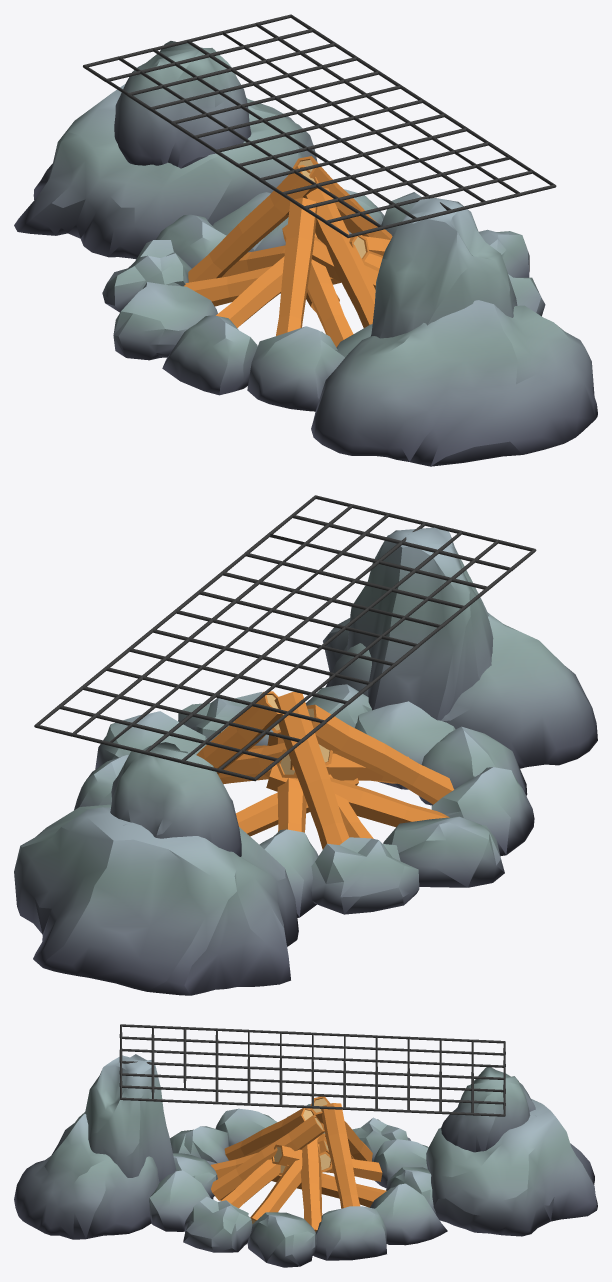
Rendered from Camp fire 2 MENGGORENG.fbx.
The picture shows the model from 3 angles, top to bottom: view 1: azimuth 30°, elevation 25°; view 2: azimuth 150°, elevation 25°; view 3: azimuth 270°, elevation 25°; orthographic projection. The views are drawn at different scales.
Visible parts, largest first — view 1: LargeRock4, LargeRock1, Plane, LargeRock1.001, LargeRock4.001, SmallRock5.001, SmallRock3.001, SmallRock4.001, Cylinder.003, Cylinder.008, Cylinder, SmallRock2.001 (+11 smaller); view 2: LargeRock1, Plane, LargeRock1.001, LargeRock4, LargeRock4.001, SmallRock2.001, SmallRock3.001, SmallRock4.001, Cylinder.008, Cylinder.003, SmallRock5.001, SmallRock3.002 (+12 smaller); view 3: LargeRock1, LargeRock4, Plane, LargeRock1.001, LargeRock4.001, SmallRock4, SmallRock3, SmallRock5, SmallRock2, SmallRock5.002, Cylinder.002, Cylinder (+14 smaller).
Boxes of the visible parts, x1,y1,x2,y2 form: LargeRock4: [311, 300, 597, 466]; LargeRock1: [14, 84, 317, 259]; Plane: [83, 14, 556, 237]; LargeRock1.001: [370, 198, 517, 338]; LargeRock4.001: [114, 41, 251, 168]; SmallRock5.001: [247, 326, 344, 411]; SmallRock3.001: [113, 282, 217, 360]; SmallRock4.001: [162, 315, 257, 395]; Cylinder.003: [188, 165, 318, 282]; Cylinder.008: [276, 197, 317, 335]; Cylinder: [305, 188, 375, 327]; SmallRock2.001: [102, 240, 191, 312]; LargeRock1: [14, 804, 298, 995]; Plane: [34, 495, 536, 781]; LargeRock1.001: [347, 526, 493, 720]; LargeRock4: [323, 613, 597, 768]; LargeRock4.001: [110, 742, 241, 856]; SmallRock2.001: [311, 837, 419, 914]; SmallRock3.001: [383, 816, 504, 887]; SmallRock4.001: [431, 767, 534, 855]; Cylinder.008: [306, 704, 454, 804]; Cylinder.003: [274, 692, 349, 849]; SmallRock5.001: [419, 726, 527, 805]; SmallRock3.002: [355, 701, 455, 789]; LargeRock1: [426, 1099, 597, 1236]; LargeRock4: [14, 1112, 159, 1239]; Plane: [119, 1024, 505, 1116]; LargeRock1.001: [85, 1054, 176, 1181]; LargeRock4.001: [441, 1067, 535, 1152]; SmallRock4: [313, 1206, 386, 1260]; SmallRock3: [247, 1212, 316, 1267]; SmallRock5: [370, 1183, 447, 1245]; SmallRock2: [183, 1196, 252, 1252]; SmallRock5.002: [149, 1170, 210, 1231]; Cylinder.002: [321, 1103, 360, 1208]; Cylinder: [211, 1115, 324, 1200].
Size of the model in its own units: 613 by 287 by 1081.
